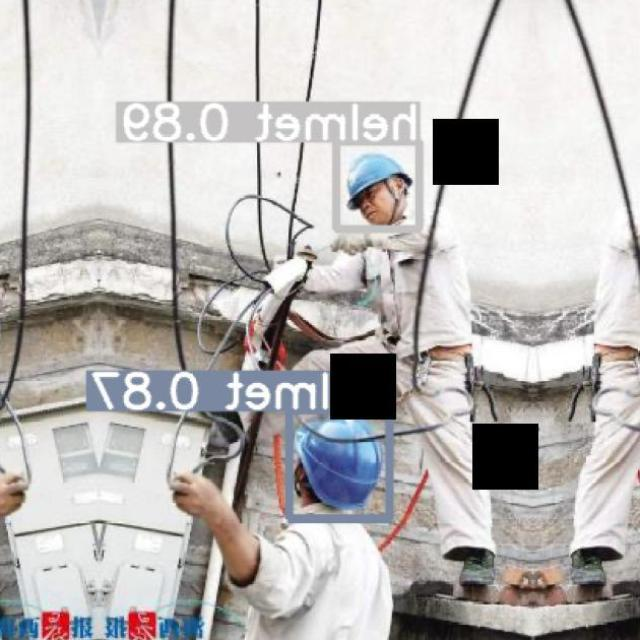helmet: (295, 417, 382, 510), (347, 153, 412, 210)
